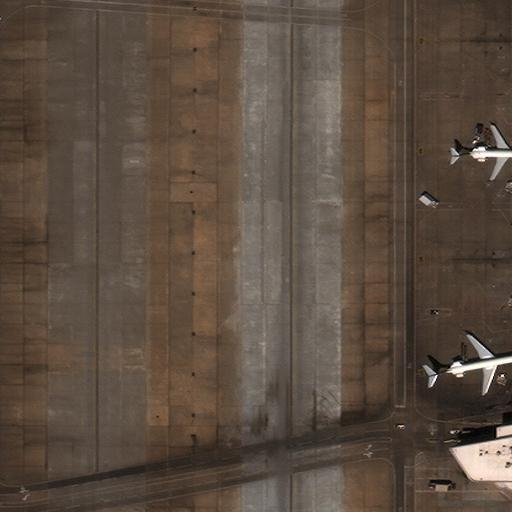Medium Civil Transport: (425, 333, 511, 395), (446, 124, 511, 181)
